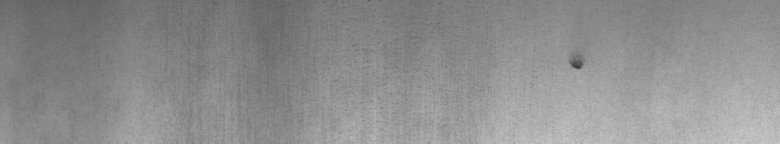fi: (564, 55, 588, 76)
